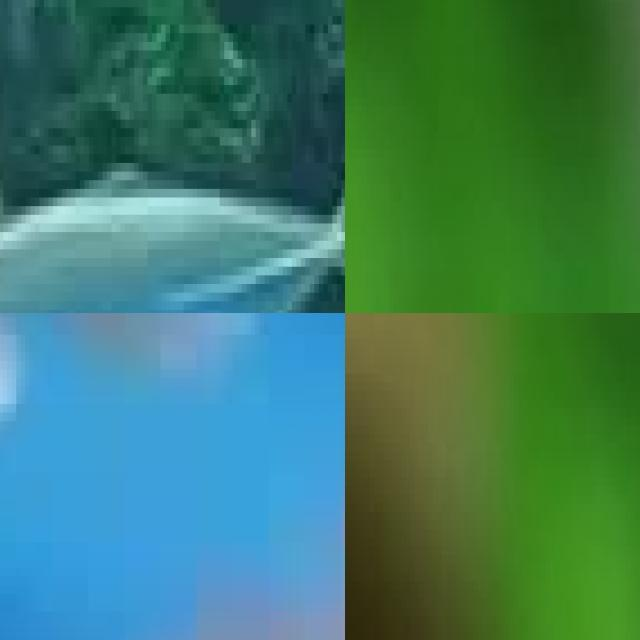fish: (0, 0, 345, 313), (0, 313, 345, 456)
